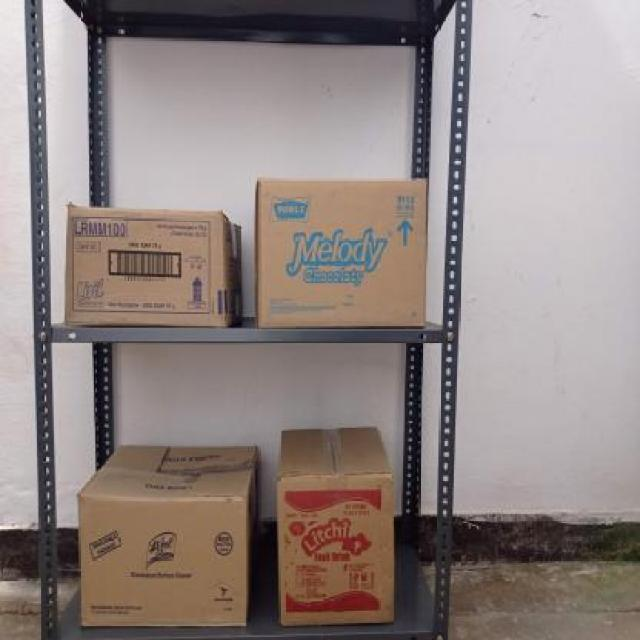box: (255, 177, 428, 328), (78, 494, 248, 624), (63, 205, 232, 324), (278, 472, 394, 626)
